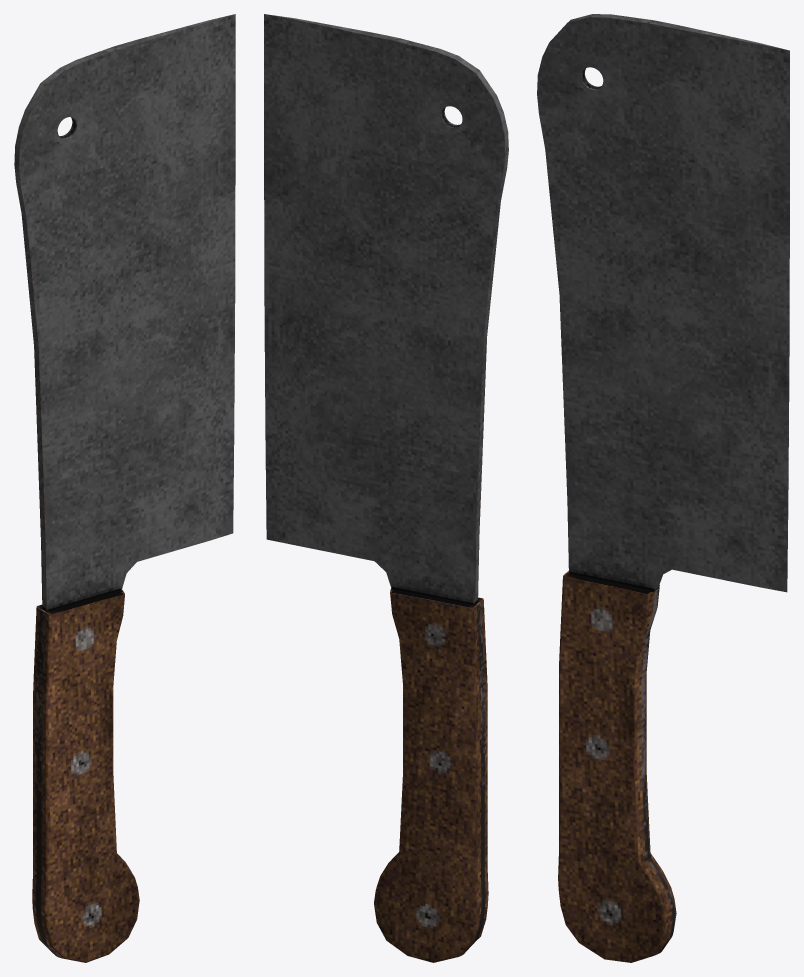
File: knife_004.glb
3 views of the same model, side by side, from view 1: azimuth 30°, elevation 25°; view 2: azimuth 150°, elevation 25°; view 3: azimuth 330°, elevation 25° (orthographic). The views are drawn at different scales.
Parts seen in each view (by area): view 1: Cube.011; view 2: Cube.011; view 3: Cube.011.
Part boxes in pixels (x1=…): Cube.011: x1=14, y1=14, x2=235, y2=962; Cube.011: x1=264, y1=14, x2=508, y2=962; Cube.011: x1=537, y1=14, x2=789, y2=962.
Size of the model in its own units: 0.2077 by 0.779 by 0.0269.
1 material, 1 textured.
